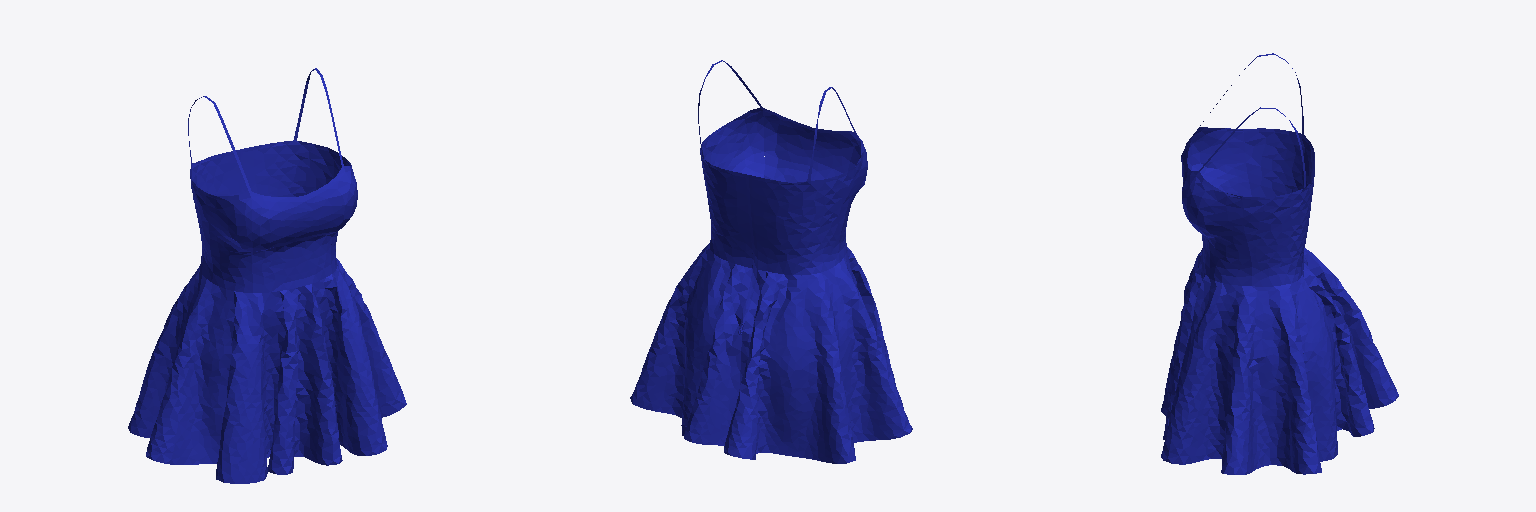
3 views of the same model, side by side, from view 1: azimuth 30°, elevation 25°; view 2: azimuth 150°, elevation 25°; view 3: azimuth 270°, elevation 25° (orthographic).
Visible parts, largest first — view 1: small_blueDress_noinside:polySurface2 small_blueDress_noinside:p; view 2: small_blueDress_noinside:polySurface2 small_blueDress_noinside:p; view 3: small_blueDress_noinside:polySurface2 small_blueDress_noinside:p.
Boxes of the visible parts, x1,y1,x2,y2 form: small_blueDress_noinside:polySurface2 small_blueDress_noinside:p: [128, 68, 406, 483]; small_blueDress_noinside:polySurface2 small_blueDress_noinside:p: [630, 60, 912, 463]; small_blueDress_noinside:polySurface2 small_blueDress_noinside:p: [1161, 53, 1398, 474].
Bounding box in the file's own units: 5.13 × 6.82 × 4.2.
Materials: 1 (1 with a texture image).